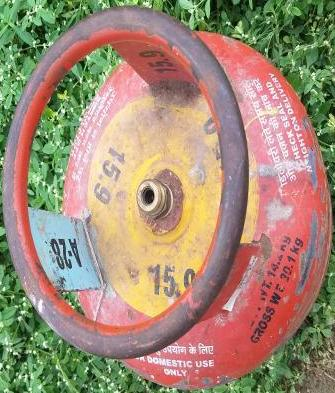cylinder: (1, 1, 335, 393)
